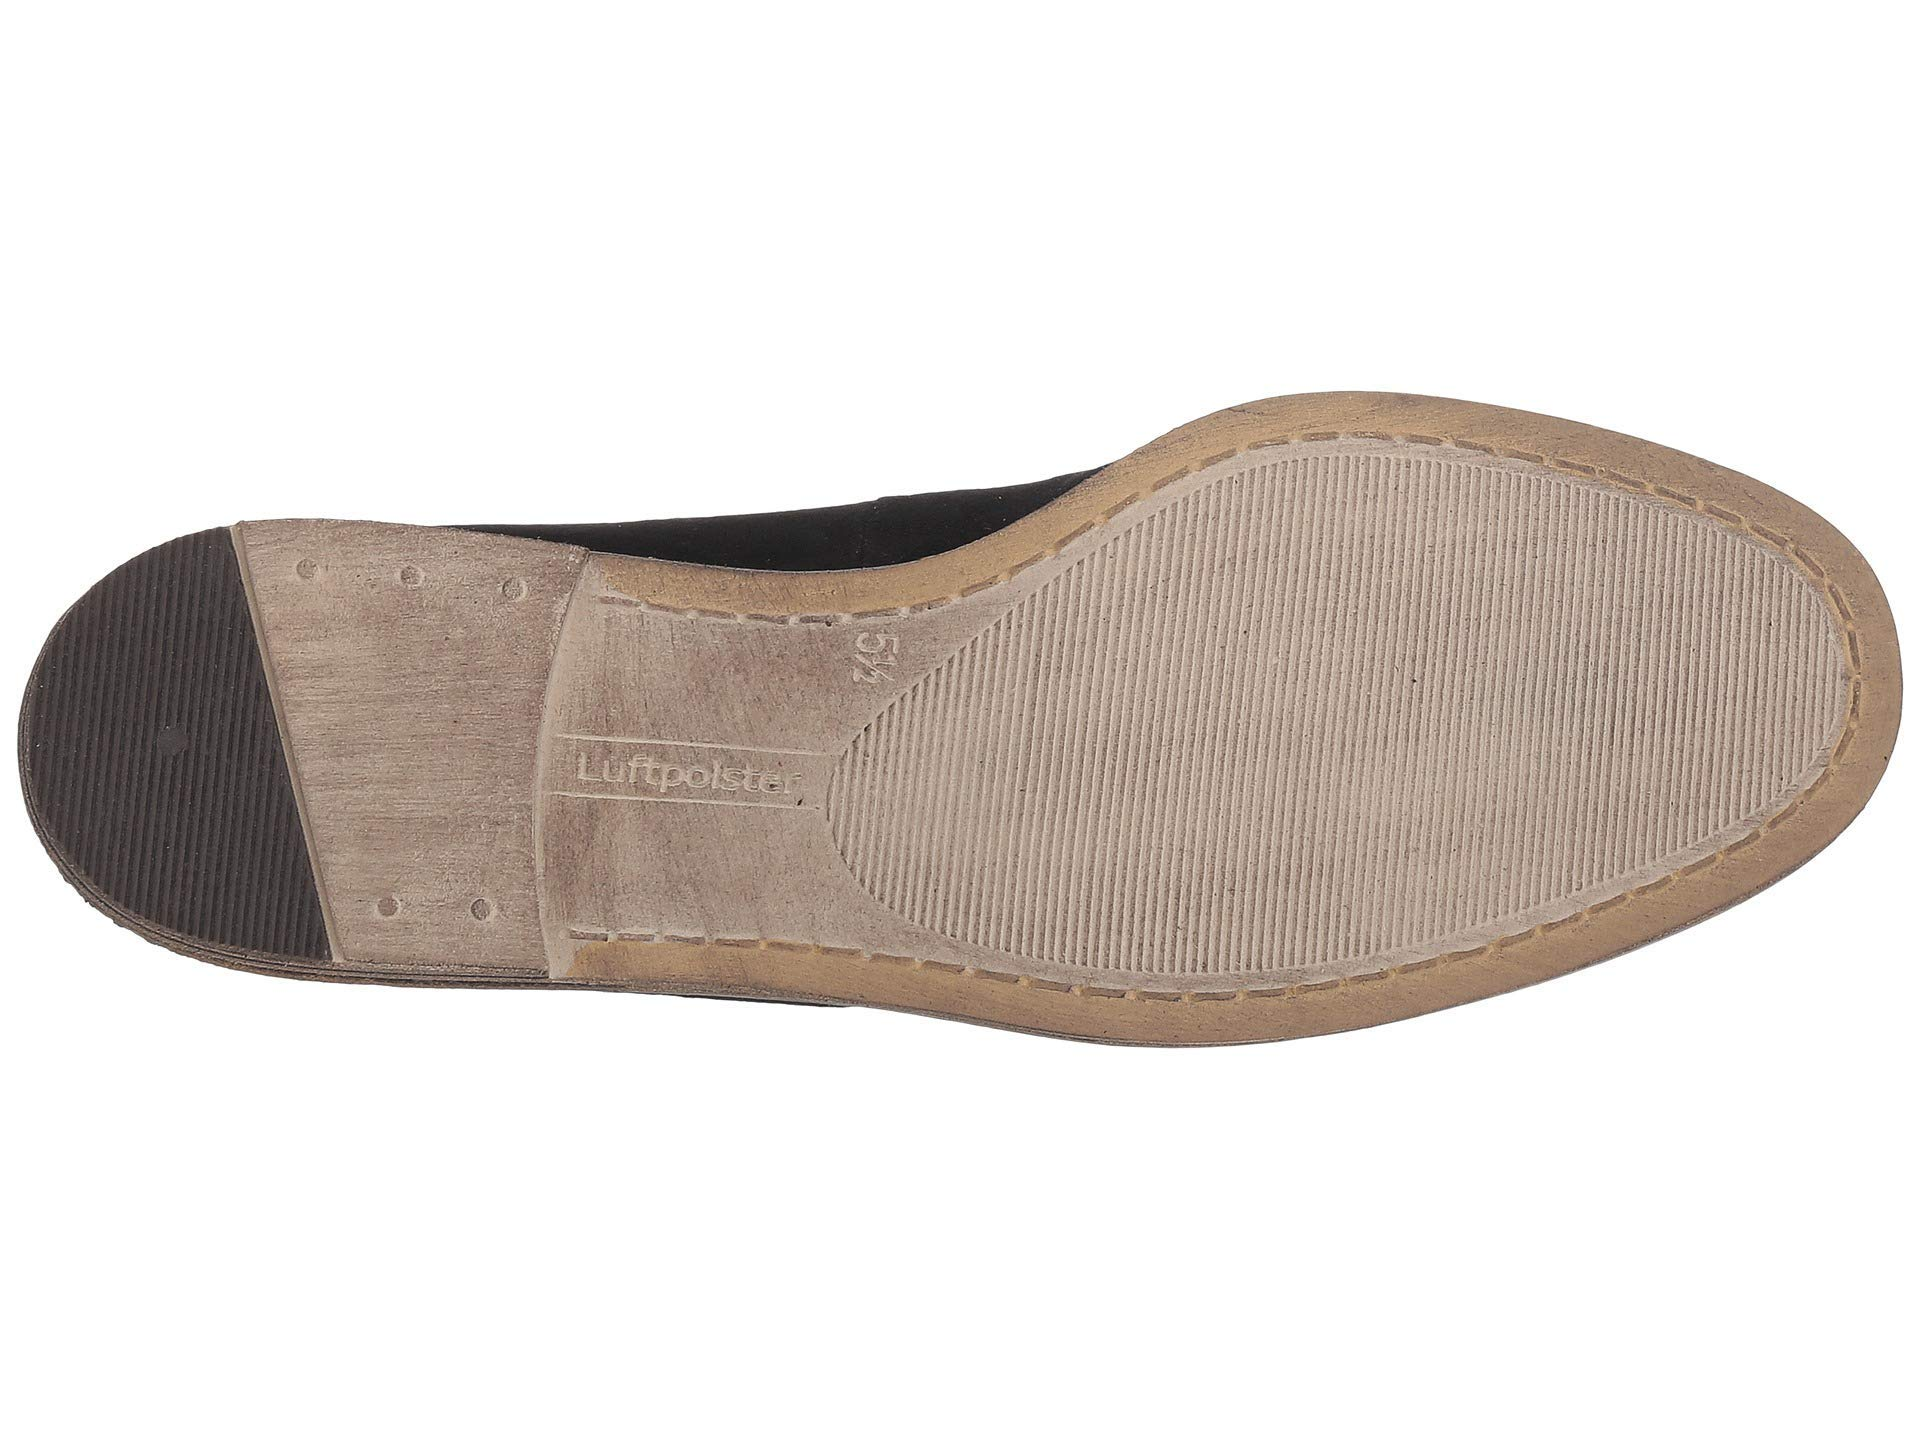line: (1147, 566, 1516, 920), (91, 670, 265, 897)
